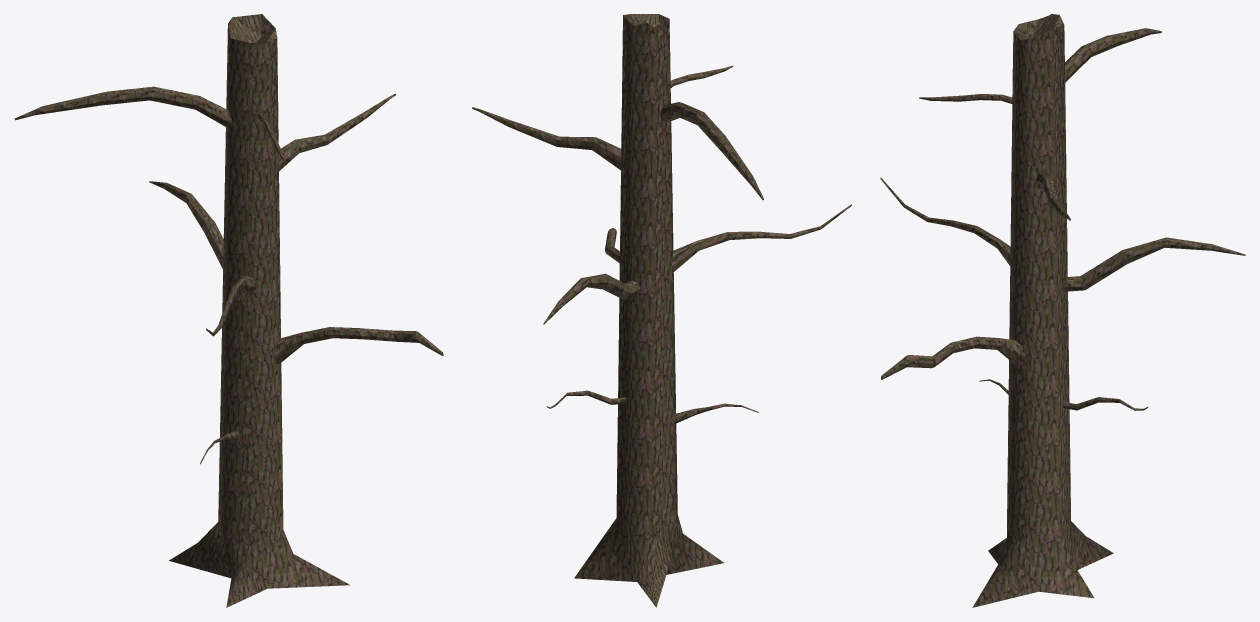
Rendered from Rotten_tree01.fbx.
3 renders of one model, left to right at view 1: azimuth 30°, elevation 25°; view 2: azimuth 150°, elevation 25°; view 3: azimuth 270°, elevation 25°, orthographic.
Parts seen in each view (by area): view 1: Rotten_tree01; view 2: Rotten_tree01; view 3: Rotten_tree01.
Boxes of the visible parts, <box> form: Rotten_tree01: <box>14,14,443,607</box>; Rotten_tree01: <box>472,14,851,607</box>; Rotten_tree01: <box>880,14,1245,607</box>.
Size of the model in its own units: 3.66 by 5.77 by 3.44.
Materials: 1 (1 with a texture image).
